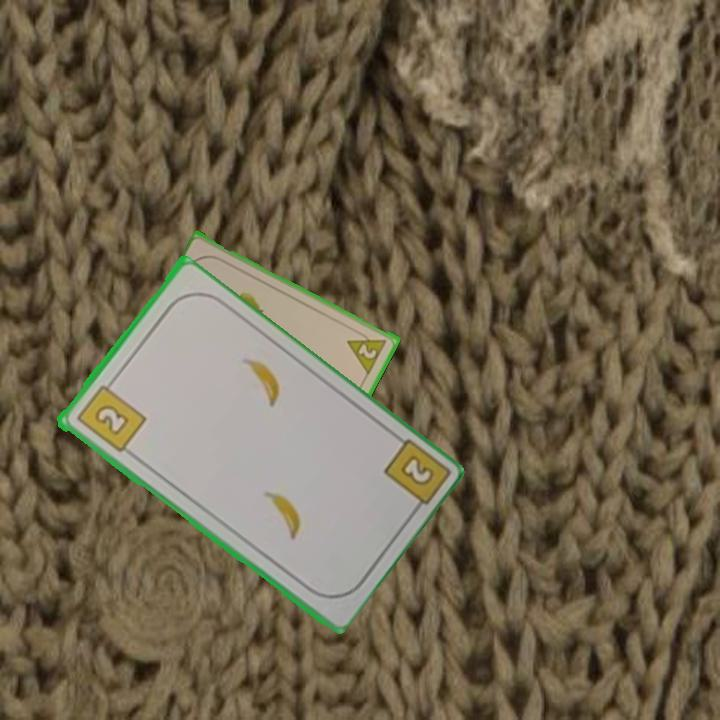2b: (72, 375, 148, 456), (396, 451, 437, 490)
2p: (355, 340, 380, 362)
